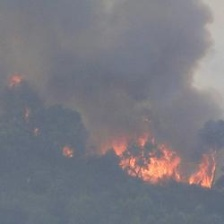fire: (106, 136, 217, 194)
smoke: (24, 1, 189, 102)
